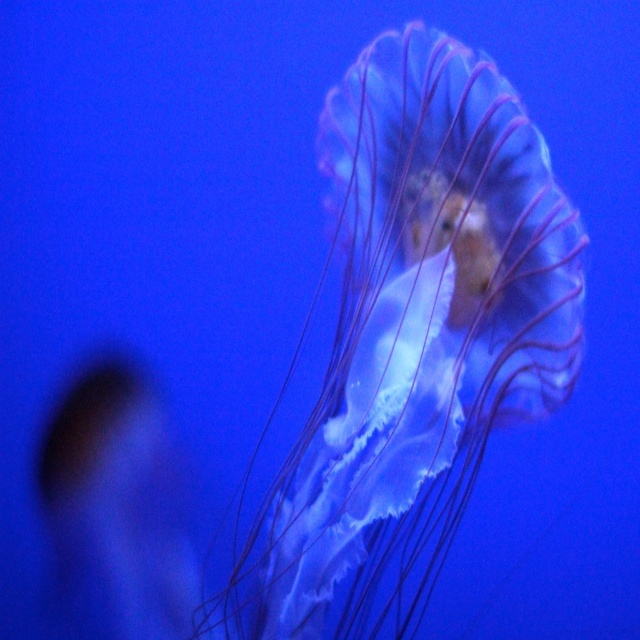Jellyfish: (188, 15, 591, 639)
